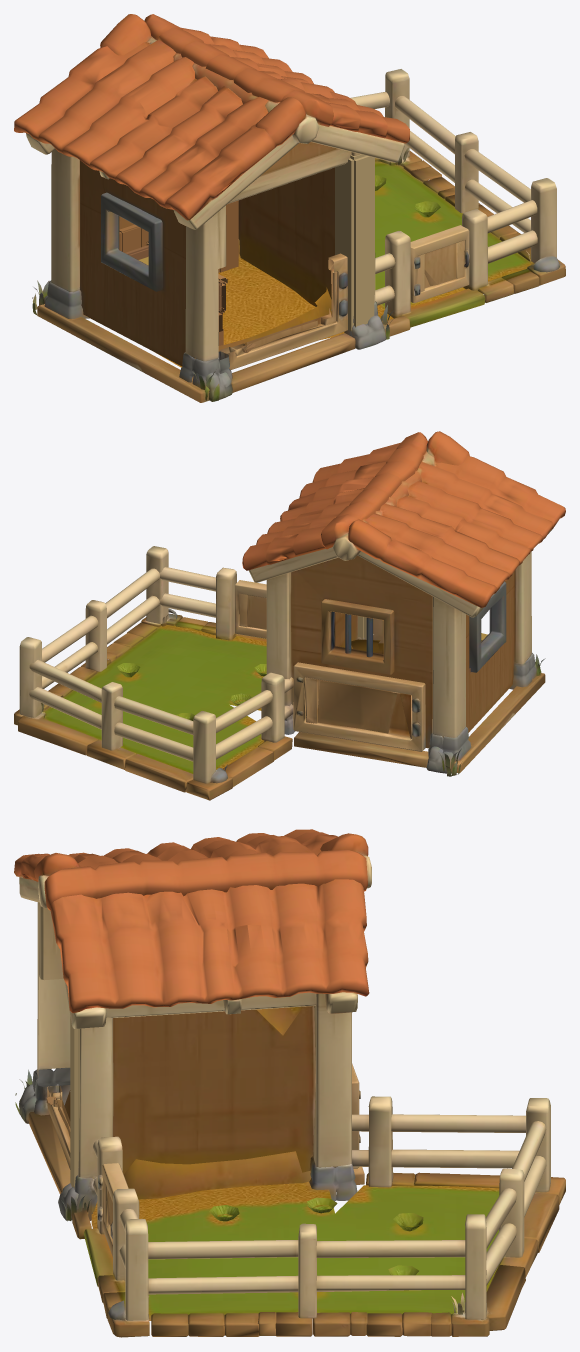
3 renders of one model, top to bottom at view 1: azimuth 30°, elevation 25°; view 2: azimuth 150°, elevation 25°; view 3: azimuth 270°, elevation 25°, orthographic. The views are drawn at different scales.
Visible parts, largest first — view 1: tripo_node_1ab5f93f-4f39-4ac6-bcbe-408c19fe9d91, 외형 세부; view 2: tripo_node_1ab5f93f-4f39-4ac6-bcbe-408c19fe9d91; view 3: tripo_node_1ab5f93f-4f39-4ac6-bcbe-408c19fe9d91, 외형 세부.
Part boxes in pixels (x1=…): tripo_node_1ab5f93f-4f39-4ac6-bcbe-408c19fe9d91: x1=14, y1=14, x2=565, y2=402; 외형 세부: x1=119, y1=154, x2=374, y2=352; tripo_node_1ab5f93f-4f39-4ac6-bcbe-408c19fe9d91: x1=14, y1=431, x2=565, y2=800; tripo_node_1ab5f93f-4f39-4ac6-bcbe-408c19fe9d91: x1=14, y1=829, x2=565, y2=1337; 외형 세부: x1=46, y1=1017, x2=94, y2=1188.
Bounding box in the file's own units: 8 × 4.41 × 7.01.
2 materials, 1 textured.
